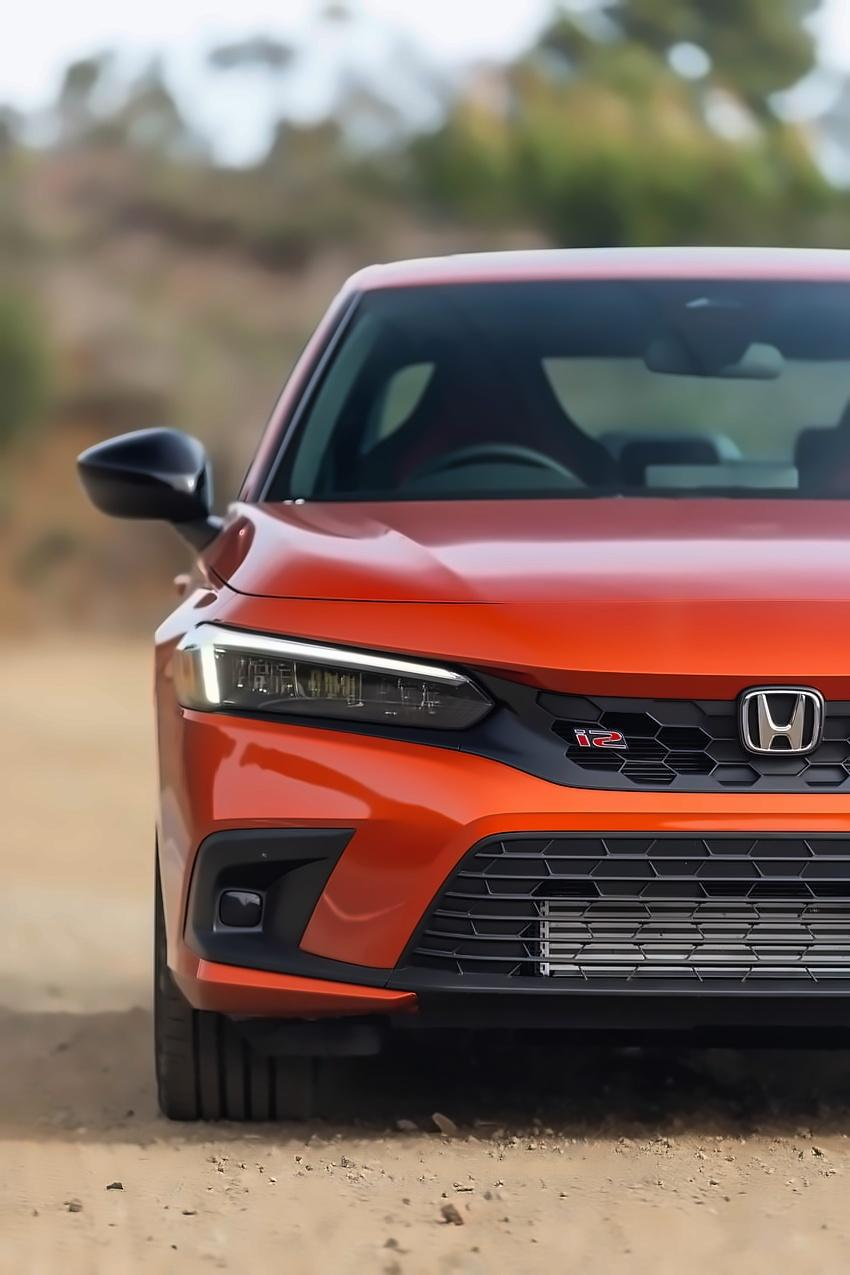Car hood: (197, 489, 850, 710)
Front bumper: (142, 712, 850, 1052)
Headlight - -R-: (165, 614, 501, 743)
Side mirror - -R-: (62, 415, 238, 558)
